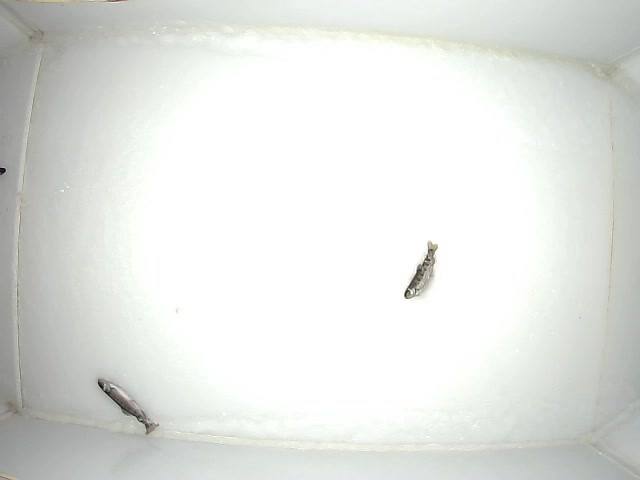fish: (93, 378, 159, 435), (402, 239, 441, 299)
